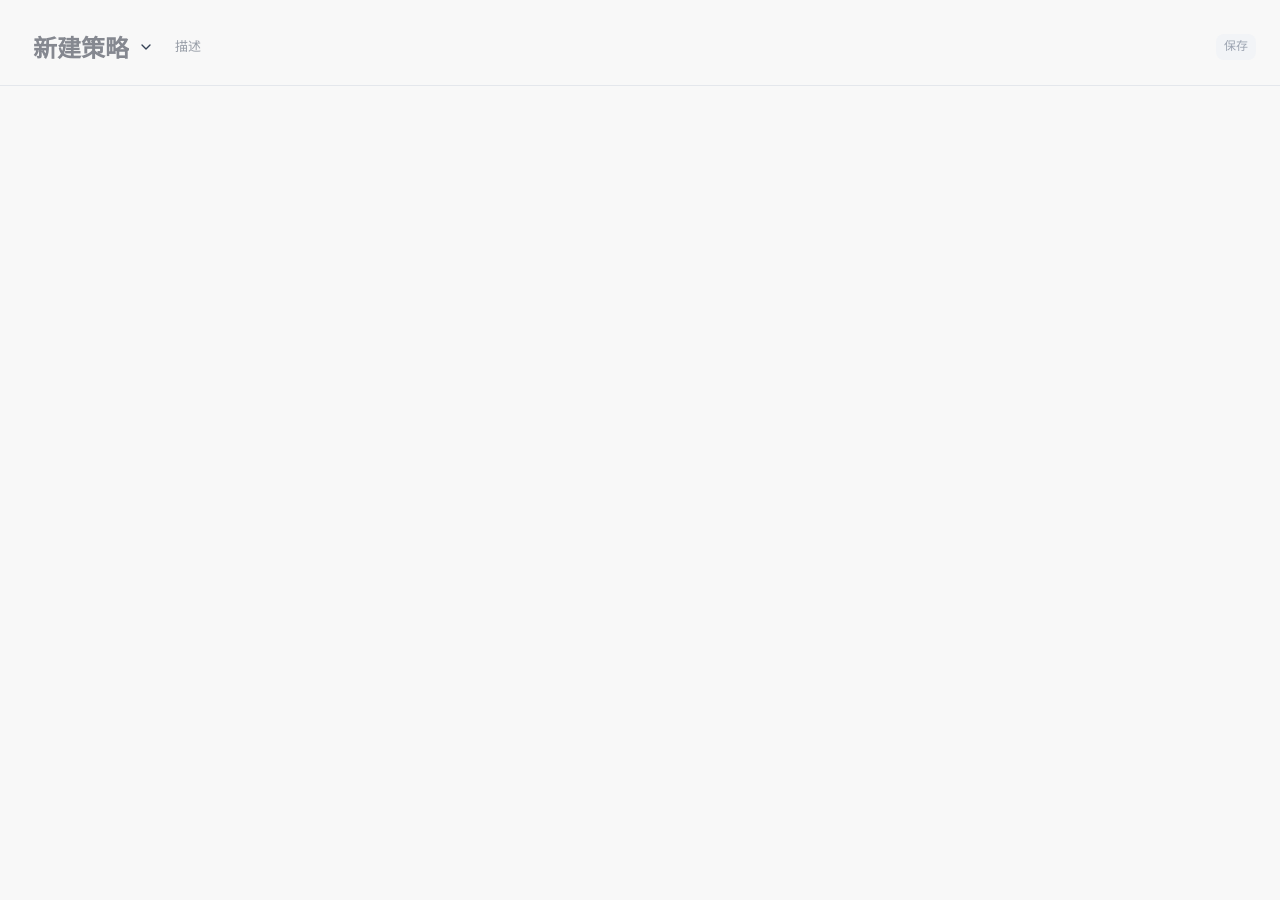
删除失败的原因在确认弹窗内可见，重试仍使用原策略
Click the button named "切换策略" at (146, 46), box [134, 34, 158, 58]
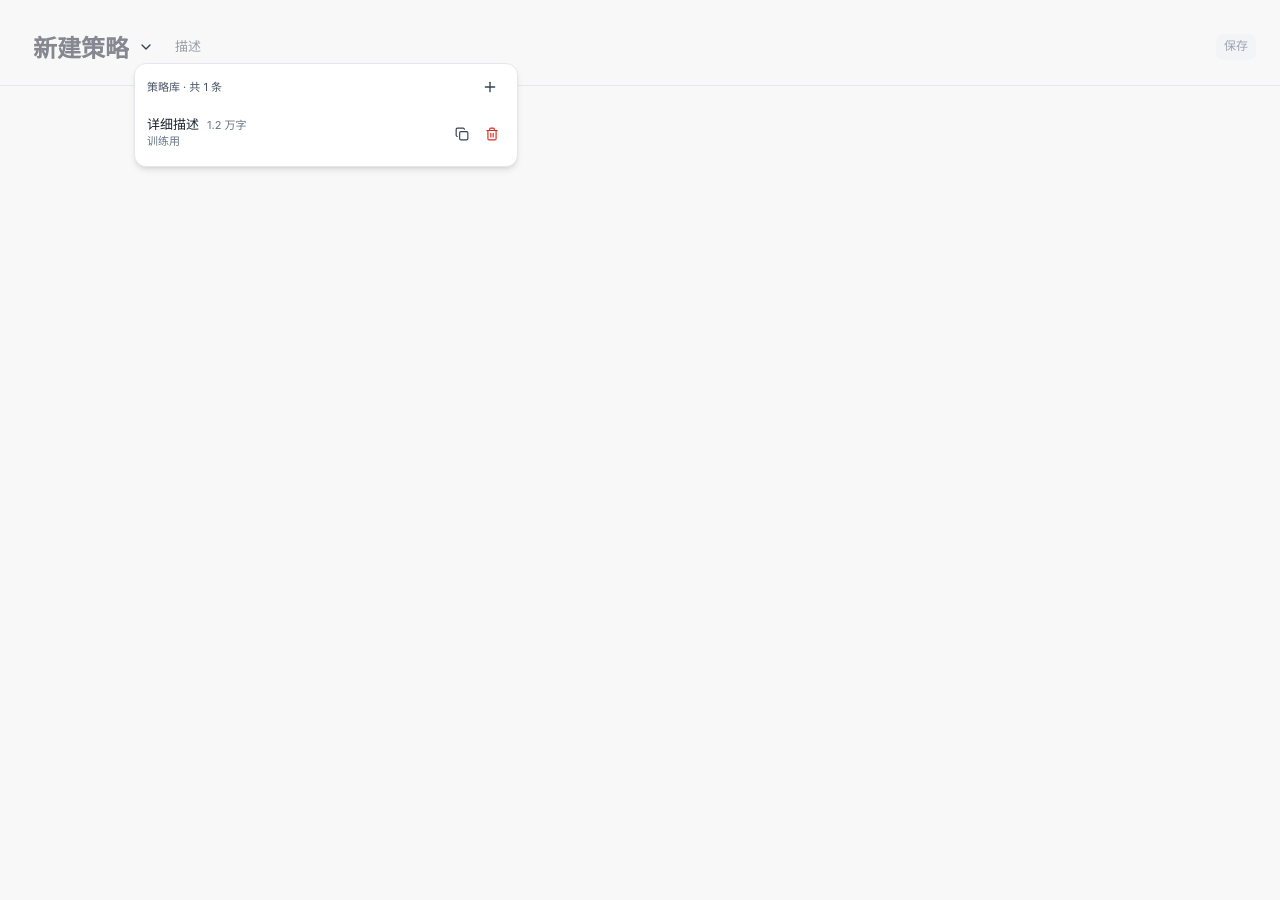
Click the button named "删除策略 详细描述" at (492, 134), box [479, 121, 505, 147]
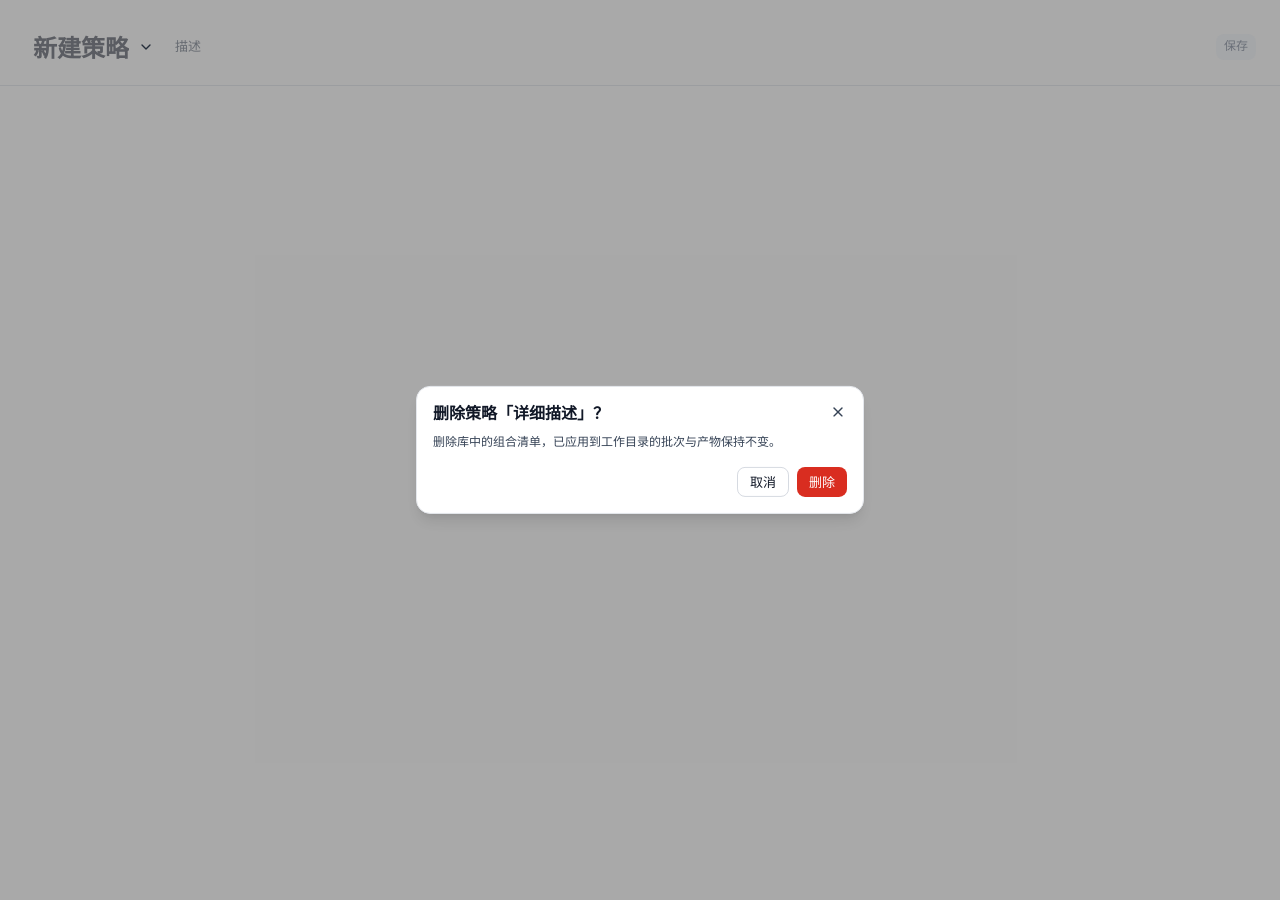
Click the button "删除" at (822, 482), box [797, 467, 847, 497]
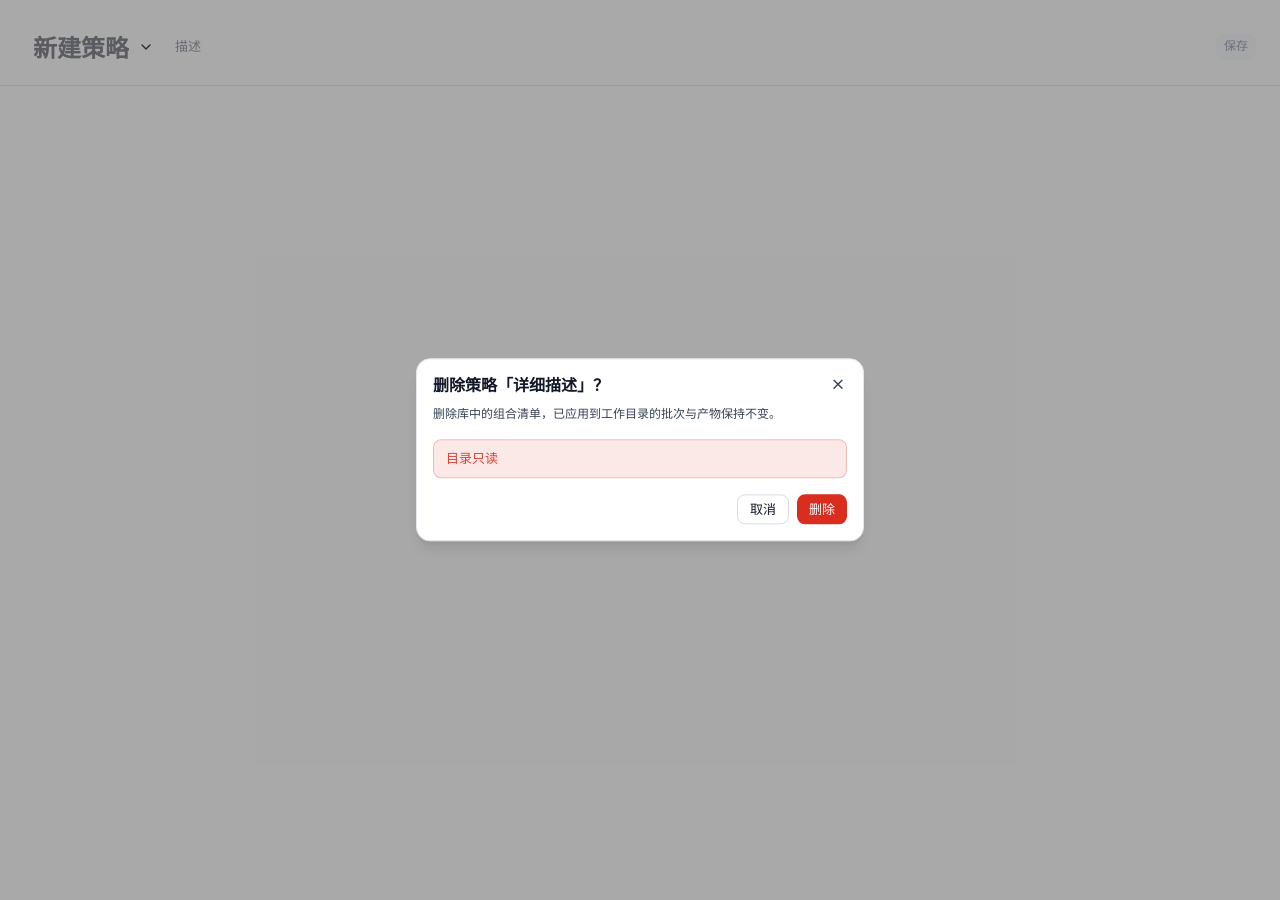
Now the text "目录只读" is shown, box [446, 448, 498, 470]
Click the button "删除" at (822, 510), box [797, 495, 847, 525]
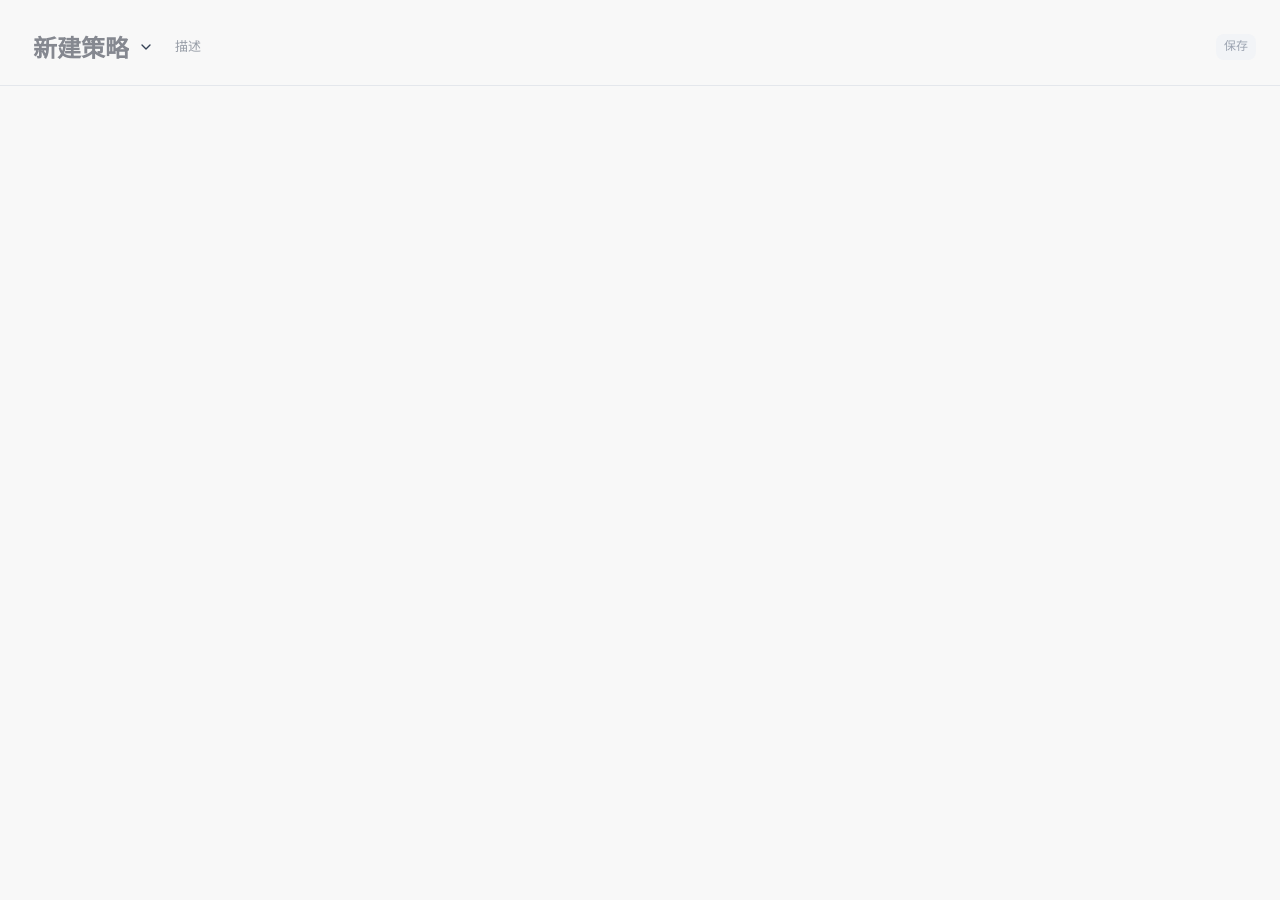
Now the dialog is gone
